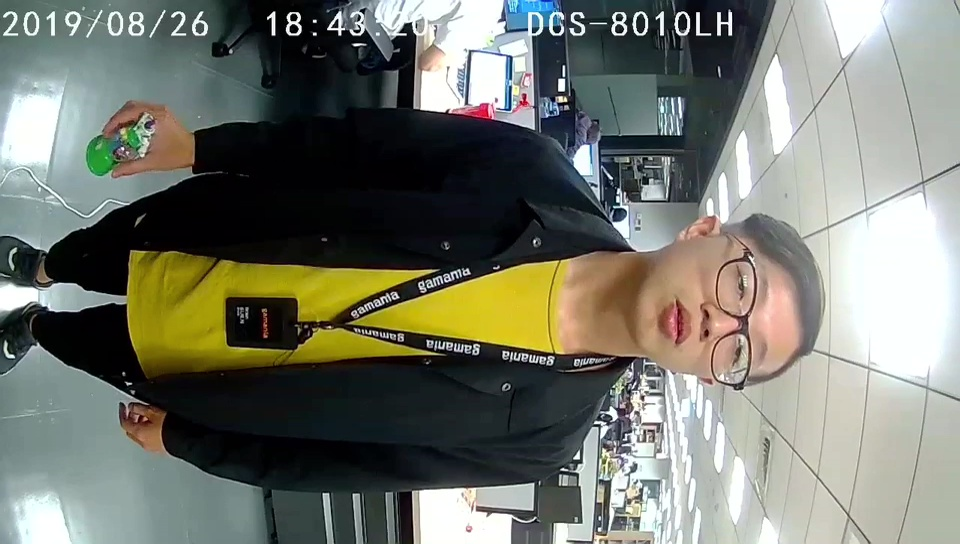buzz: (83, 110, 160, 178)
